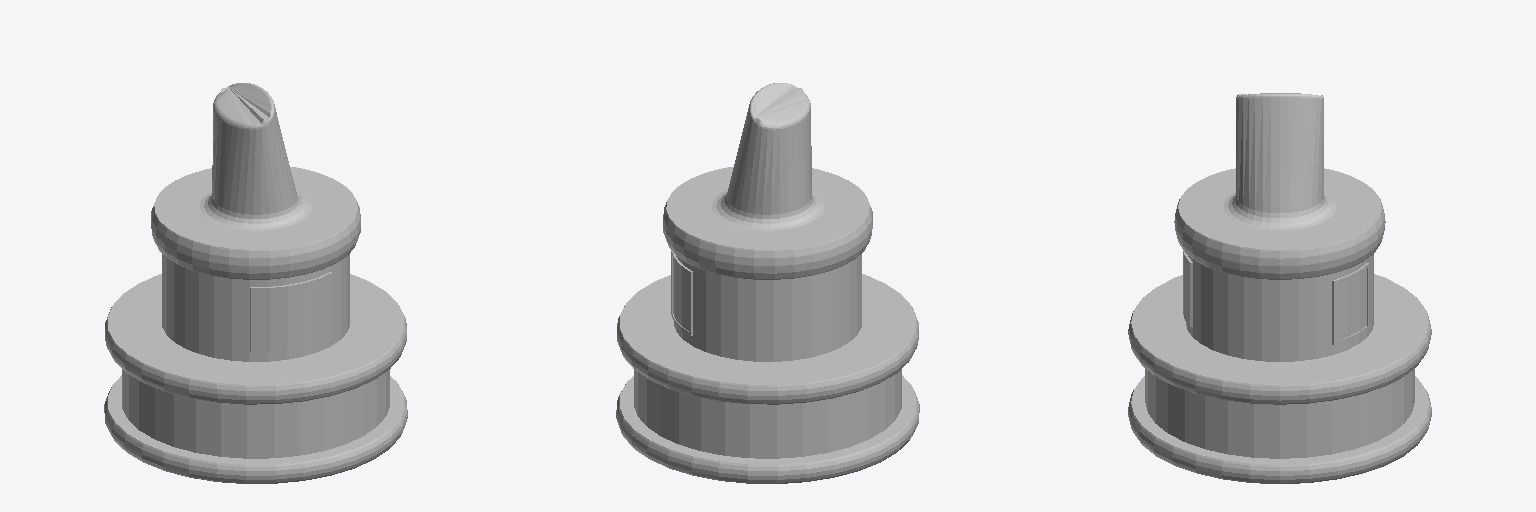
File: SetA_Misc_02.obj
3 views of the same model, side by side, from view 1: azimuth 30°, elevation 25°; view 2: azimuth 150°, elevation 25°; view 3: azimuth 270°, elevation 25° (orthographic).
Visible parts, largest first — view 1: SetA_Misc_02; view 2: SetA_Misc_02; view 3: SetA_Misc_02.
Part boxes in pixels (x1,y1,x2,y2): SetA_Misc_02: (104, 83, 407, 483); SetA_Misc_02: (616, 83, 919, 483); SetA_Misc_02: (1128, 93, 1431, 483).
Size of the model in its own units: 0.1854 by 0.2223 by 0.1854.